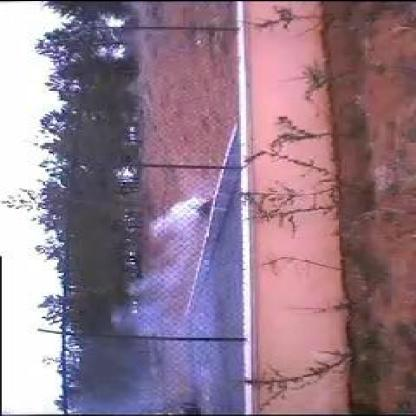-: (121, 176, 241, 378)
